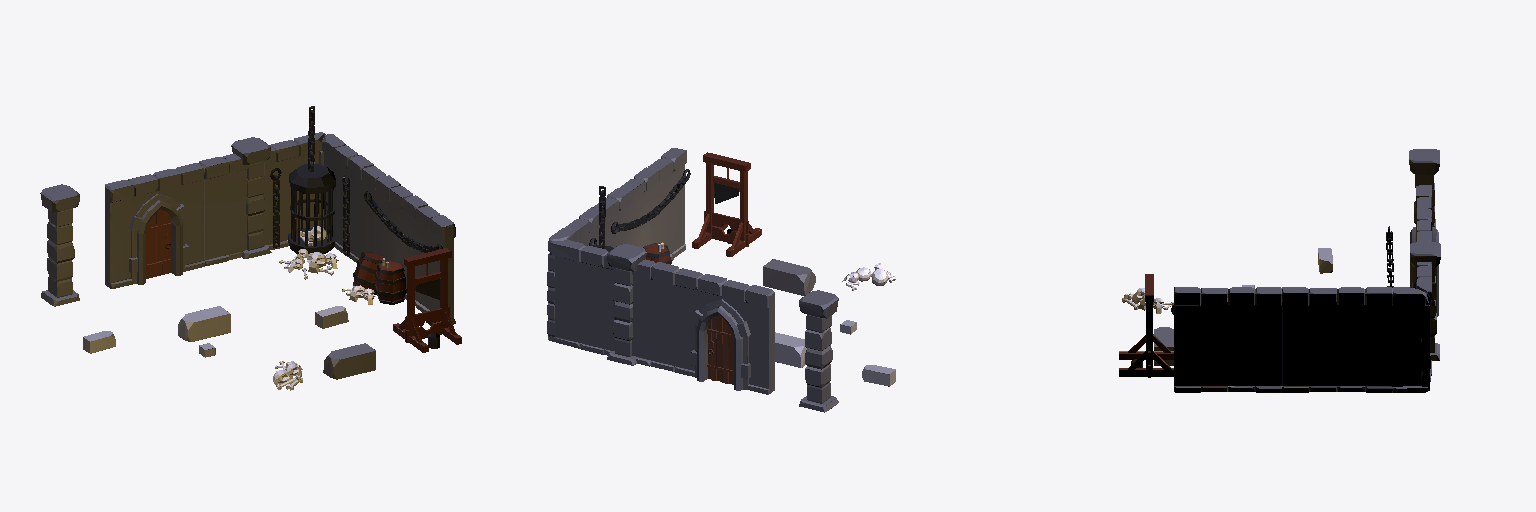
3 renders of one model, left to right at view 1: azimuth 30°, elevation 25°; view 2: azimuth 150°, elevation 25°; view 3: azimuth 270°, elevation 25°, orthographic.
Visible parts, largest first — view 1: Wall5_Untitled.020; view 2: Wall5_Untitled.020; view 3: Wall5_Untitled.020.
Part boxes in pixels (x1,y1,x2,y2): Wall5_Untitled.020: (40, 106, 461, 390); Wall5_Untitled.020: (547, 148, 895, 412); Wall5_Untitled.020: (1119, 149, 1440, 392).
Size of the model in its own units: 7.82 by 4.16 by 7.39.
Materials: 1 (1 with a texture image).